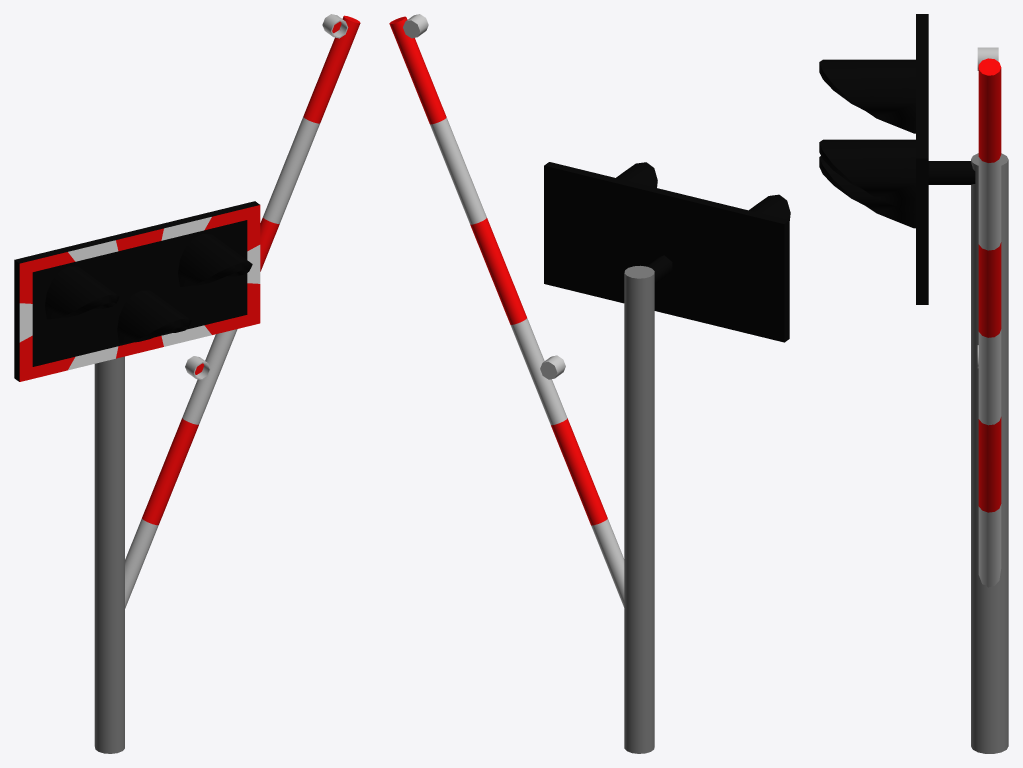
The model's file is directLeft.fbx.
3 views of the same model, side by side, from view 1: azimuth 30°, elevation 25°; view 2: azimuth 150°, elevation 25°; view 3: azimuth 270°, elevation 25° (orthographic). The views are drawn at different scales.
Parts seen in each view (by area): view 1: directLeft, up.Left; view 2: directLeft, up.Left; view 3: directLeft, up.Left.
Part boxes in pixels (x1,y1,x2,y2): directLeft: (14,201,260,753); up.Left: (125,14,360,608); directLeft: (544,162,790,753); up.Left: (389,14,624,607); directLeft: (819,14,1008,753); up.Left: (977,47,1001,587).
Size of the model in its own units: 456 by 796 by 164.
